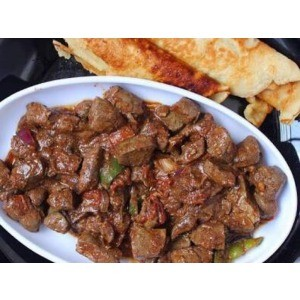liver_brain food: (44, 138, 240, 228)
